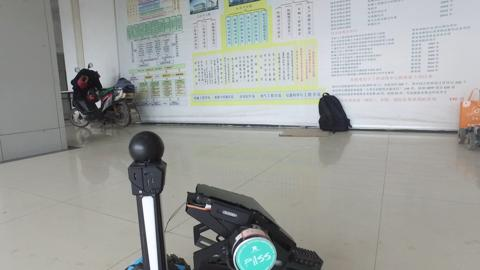bag: (314, 91, 354, 135)
chariot: (121, 127, 326, 270)
